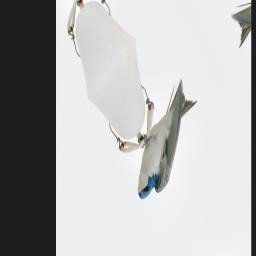Swallow: (119, 69, 211, 212)
